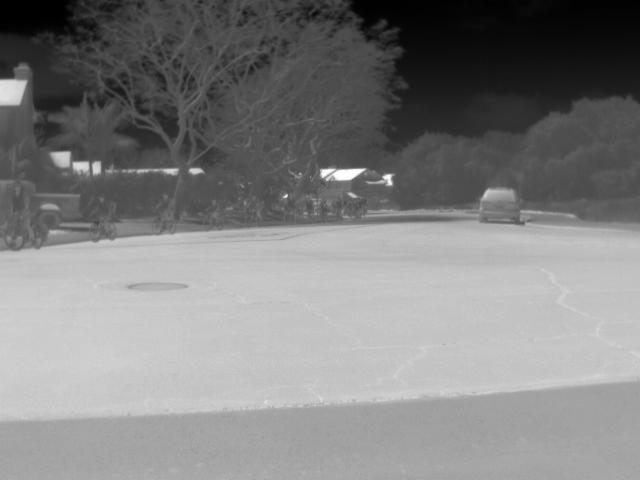car: (0, 178, 82, 231), (477, 186, 524, 226)
person: (9, 182, 40, 244), (89, 194, 116, 234), (155, 192, 175, 225), (201, 197, 222, 221)
